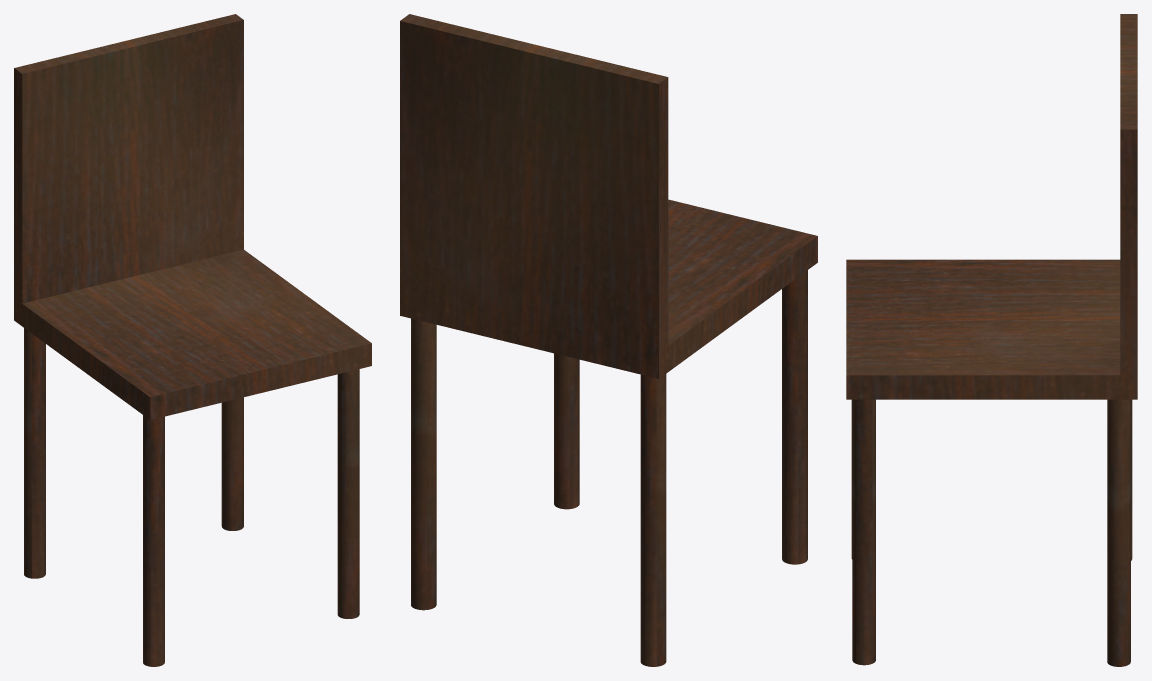
File: chair.dae
3 views of the same model, side by side, from view 1: azimuth 30°, elevation 25°; view 2: azimuth 150°, elevation 25°; view 3: azimuth 270°, elevation 25° (orthographic). The views are drawn at different scales.
Visible parts, largest first — view 1: Chair; view 2: Chair; view 3: Chair.
Part boxes in pixels (bbox=[...]): Chair: bbox=[14, 14, 371, 666]; Chair: bbox=[400, 14, 817, 666]; Chair: bbox=[846, 14, 1137, 666].
Bounding box in the file's own units: 0.8586 × 0.913 × 1.86.
1 material, 1 textured.
